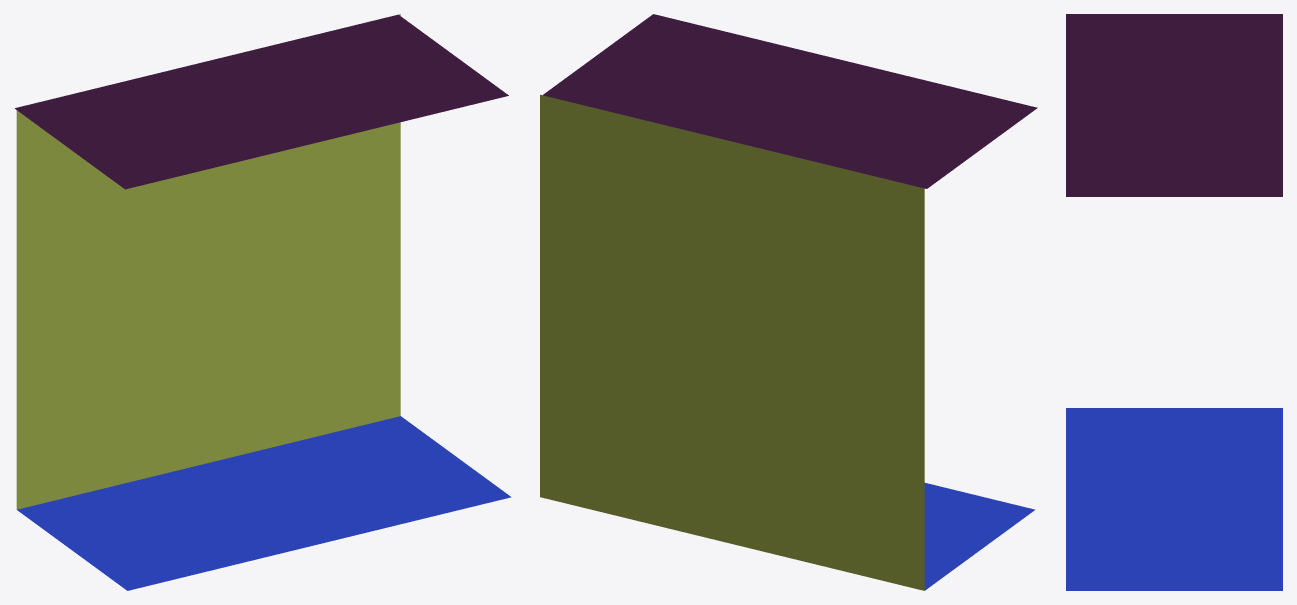
File: ModuleSc_A_side011.FBX
3 views of the same model, side by side, from view 1: azimuth 30°, elevation 25°; view 2: azimuth 150°, elevation 25°; view 3: azimuth 270°, elevation 25° (orthographic). The views are drawn at different scales.
Visible parts, largest first — view 1: ModuleSc_A_wall_04, ModuleSc_A_roof_05, ModuleSC_A_floor_05; view 2: ModuleSc_A_wall_04, ModuleSc_A_roof_05, ModuleSC_A_floor_05; view 3: ModuleSC_A_floor_05, ModuleSc_A_roof_05.
Part boxes in pixels (x1,y1,x2,y2): ModuleSc_A_wall_04: (16,14,400,509); ModuleSc_A_roof_05: (15,14,508,189); ModuleSC_A_floor_05: (17,416,511,590); ModuleSc_A_wall_04: (540,94,924,590); ModuleSc_A_roof_05: (543,14,1037,188); ModuleSC_A_floor_05: (924,483,1034,590); ModuleSC_A_floor_05: (1066,408,1282,590); ModuleSc_A_roof_05: (1066,14,1282,196).
Size of the model in its own units: 79.22 by 78.74 by 39.37.
